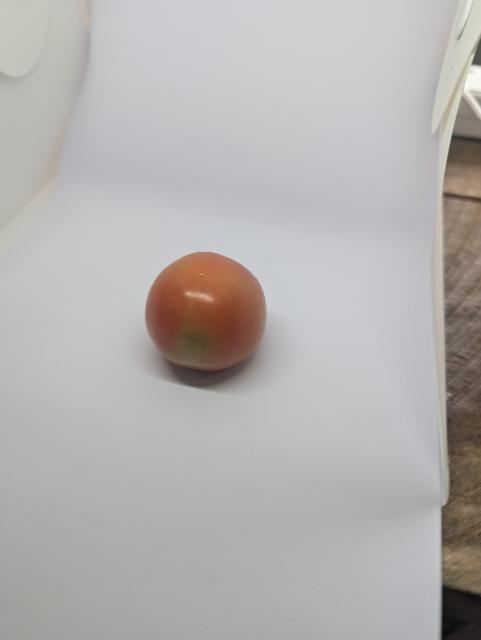turning: (141, 246, 272, 376)
